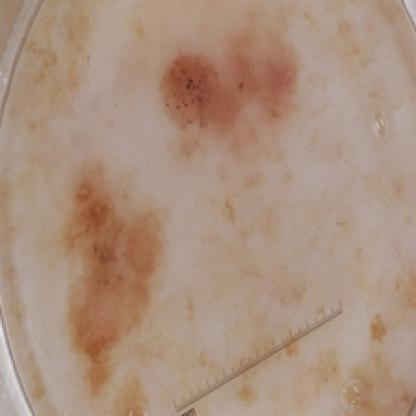Skin_Cancer-Malignant: (63, 156, 156, 416), (159, 51, 223, 136)
